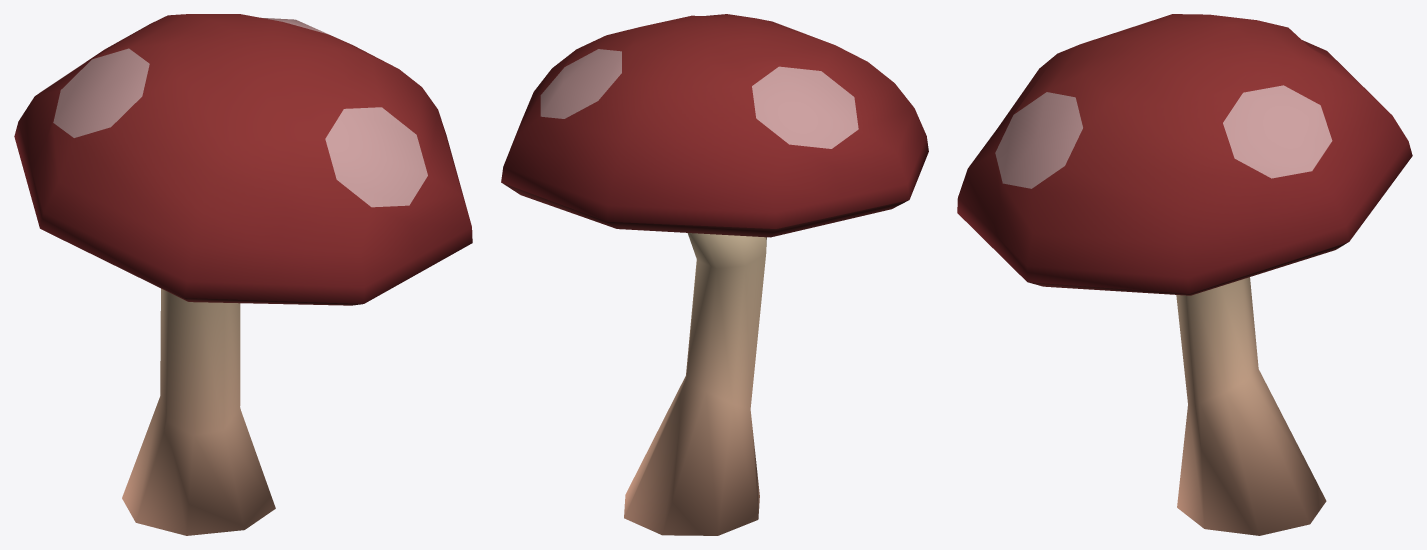
Rendered from RedShroomBig1.fbx.
3 renders of one model, left to right at view 1: azimuth 30°, elevation 25°; view 2: azimuth 150°, elevation 25°; view 3: azimuth 270°, elevation 25°, orthographic. The views are drawn at different scales.
Parts seen in each view (by area): view 1: Sphere.101; view 2: Sphere.101; view 3: Sphere.101.
Boxes of the visible parts, x1,y1,x2,y2 form: Sphere.101: [14, 14, 472, 535]; Sphere.101: [501, 14, 928, 535]; Sphere.101: [957, 14, 1412, 535].
Size of the model in its own units: 128 by 127 by 143.
